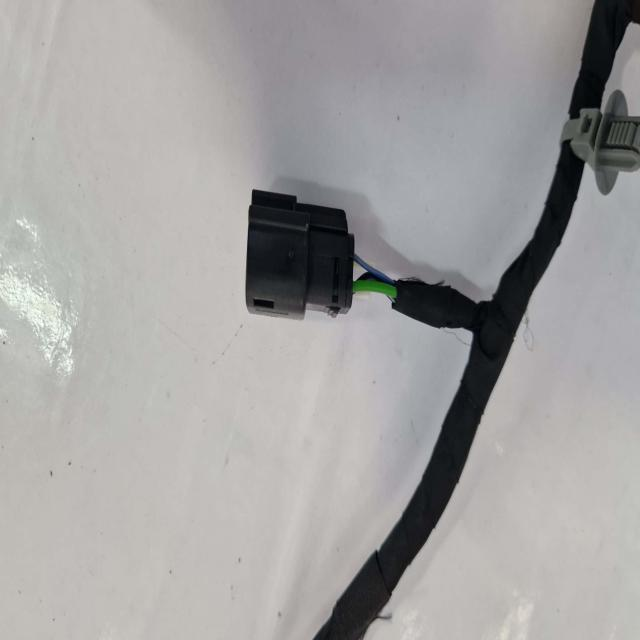Clip: (563, 92, 630, 194)
Connector: (247, 193, 354, 320)
Gape: (354, 239, 398, 315)
MHEV_N11_Cable: (307, 138, 588, 640), (574, 0, 632, 116)
